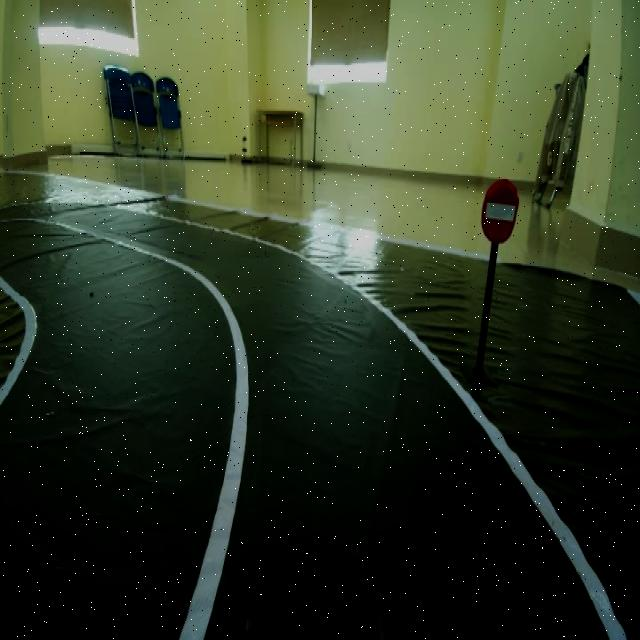no_entry: (473, 171, 534, 265)
